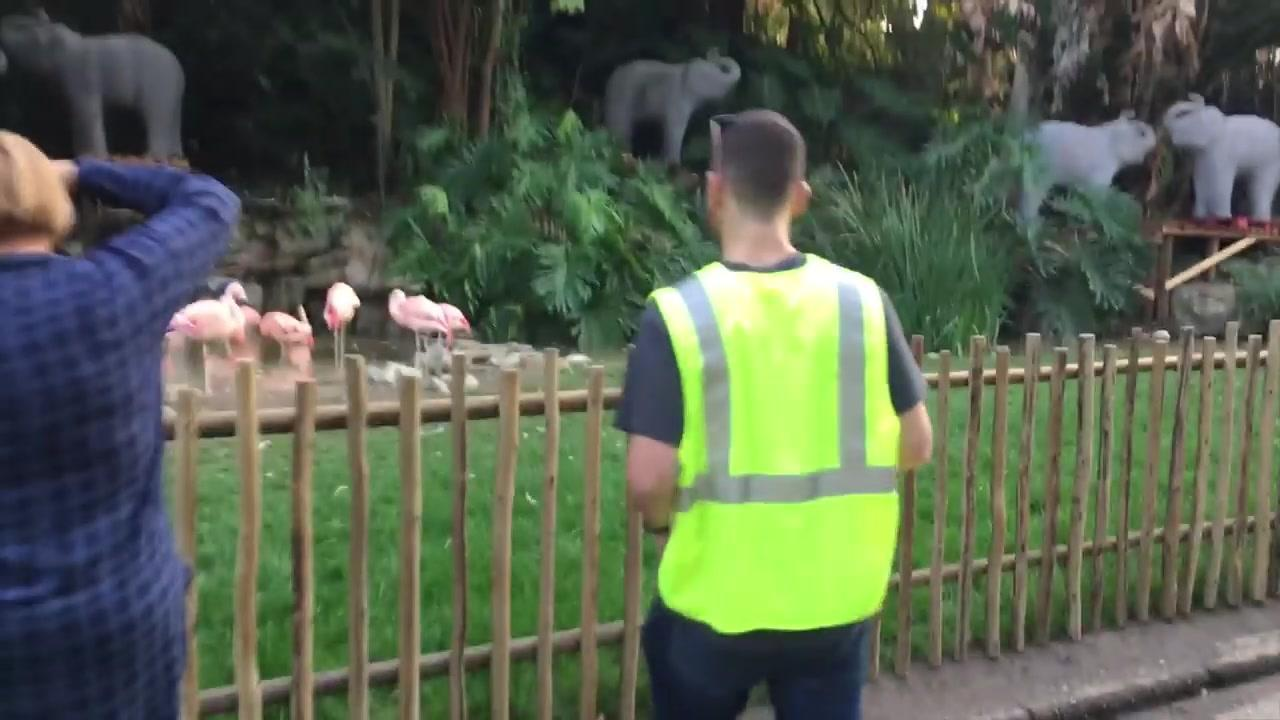vest: (648, 257, 900, 636)
